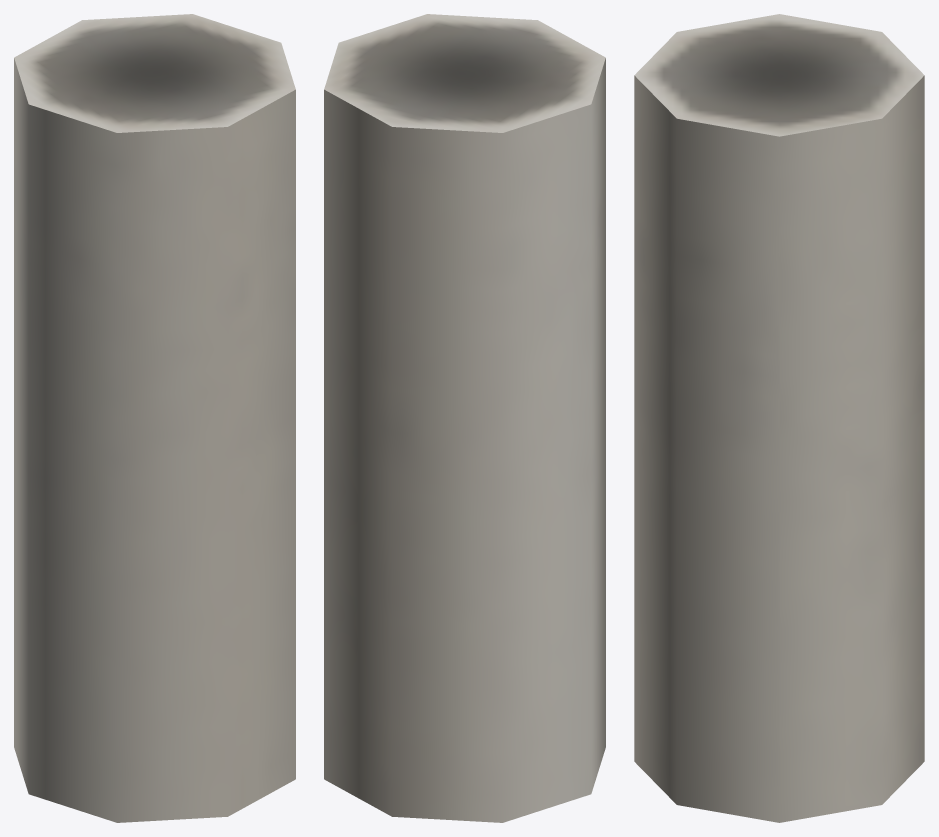
File: set_trough_03.fbx
3 renders of one model, left to right at view 1: azimuth 30°, elevation 25°; view 2: azimuth 150°, elevation 25°; view 3: azimuth 270°, elevation 25°, orthographic.
Visible parts, largest first — view 1: set_trough_03; view 2: set_trough_03; view 3: set_trough_03.
Boxes of the visible parts, <box> form: set_trough_03: <box>14,14,295,822</box>; set_trough_03: <box>324,14,605,822</box>; set_trough_03: <box>634,14,924,822</box>.
Size of the model in its own units: 19.16 by 50 by 19.16.
